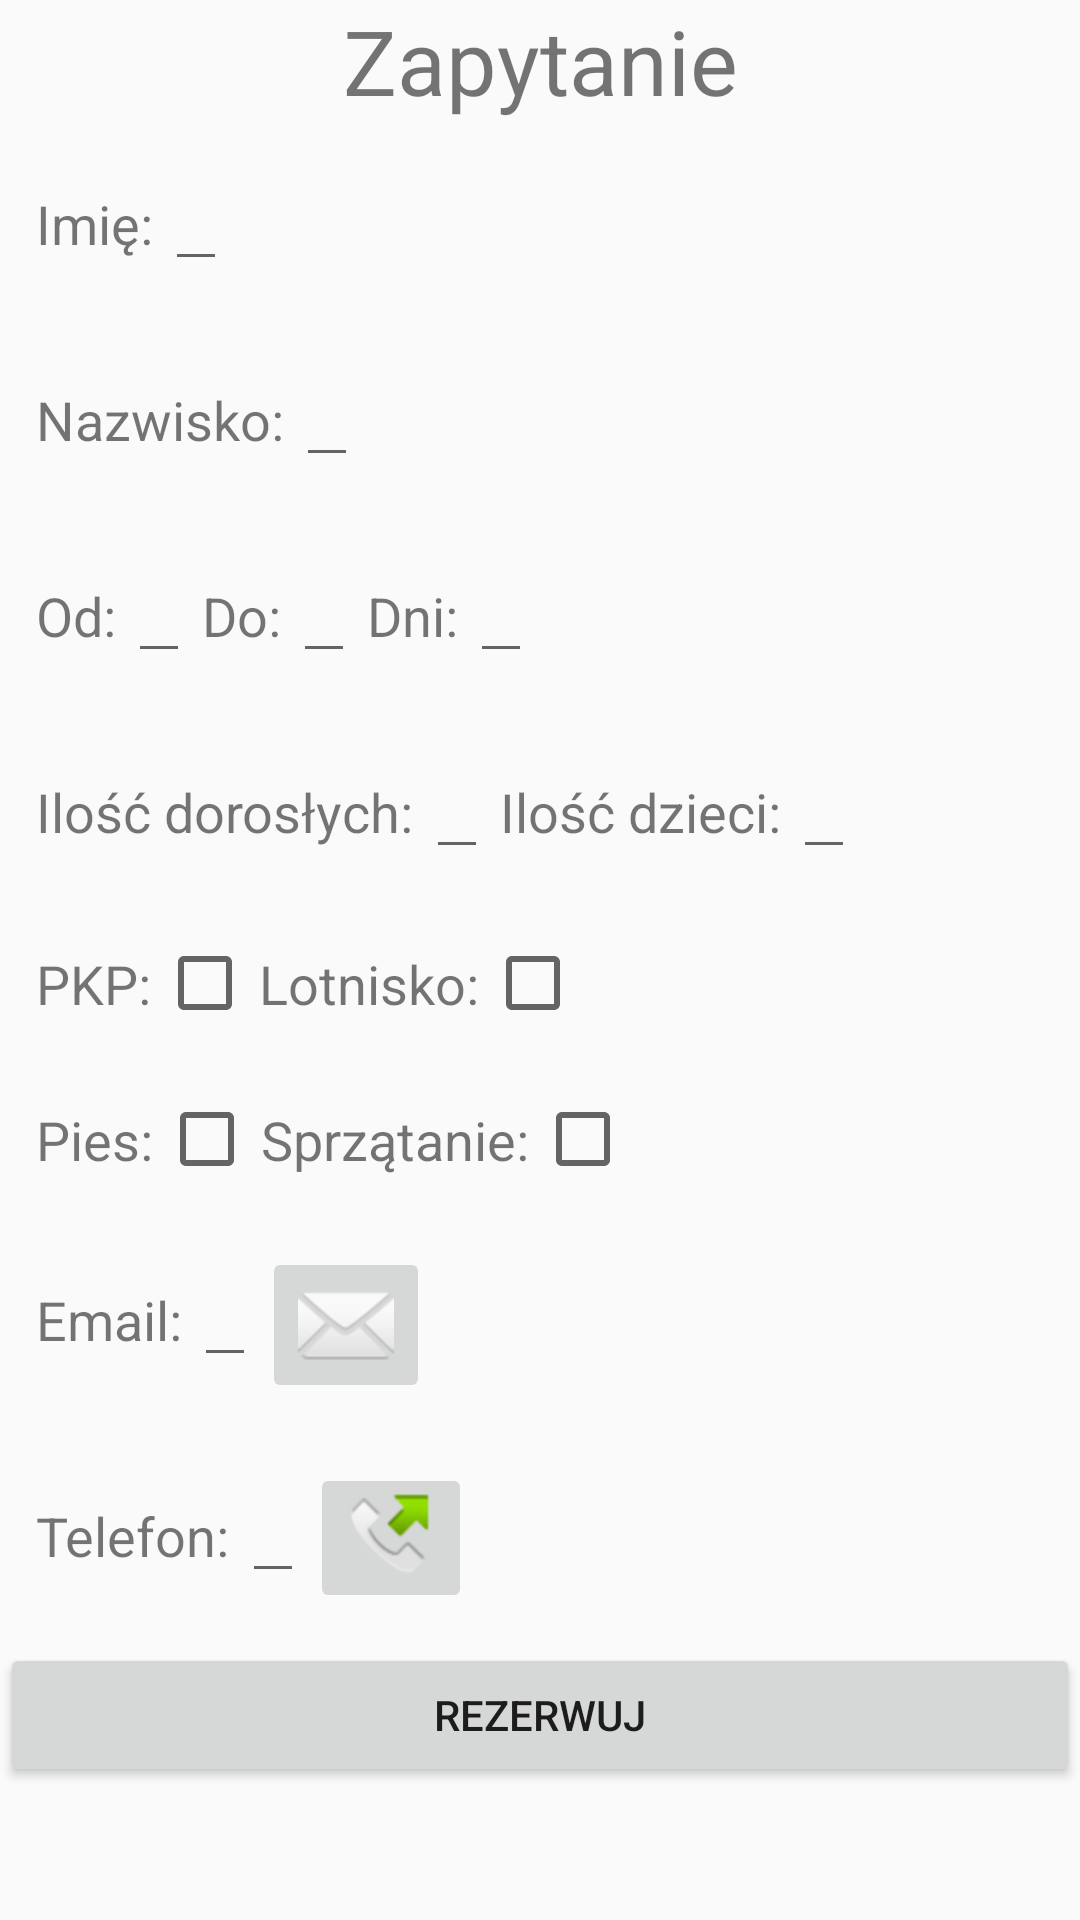

Icons on this 1080x1920 Android screen, each with the point to tap as point (x, y):
sym call outgoing: point (391, 1538)
